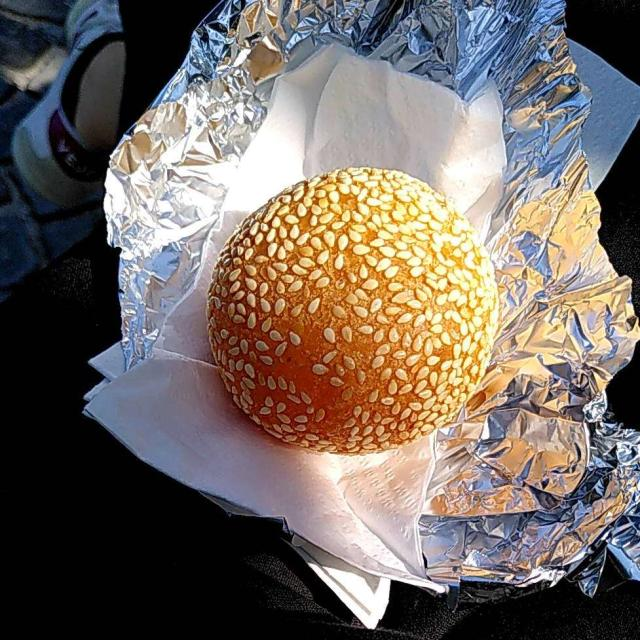thucan: (209, 169, 499, 454)
